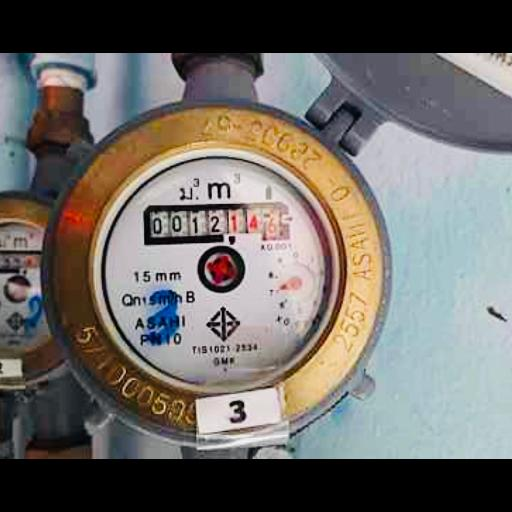0: (149, 211, 171, 238), (171, 211, 190, 238)
1: (189, 210, 209, 237), (228, 210, 247, 235)
2: (208, 209, 229, 235)
4: (246, 209, 262, 234)
6: (262, 208, 281, 240)
border_water_meter_number: (143, 201, 290, 245)
